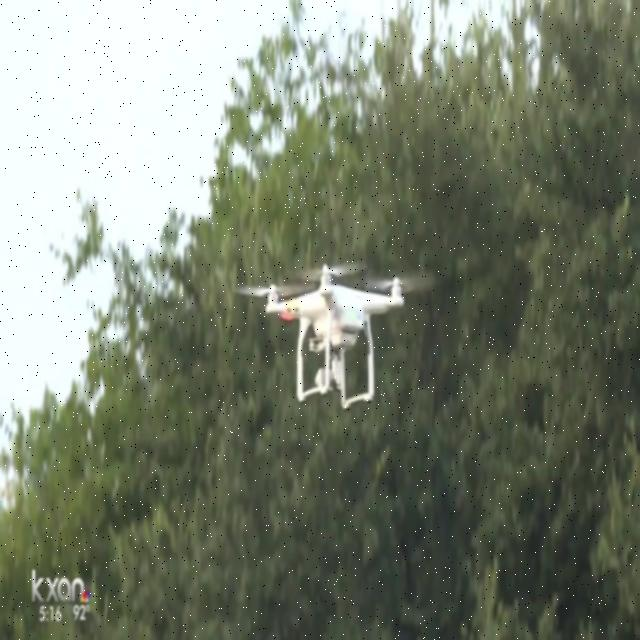UAV: (235, 264, 436, 410)
